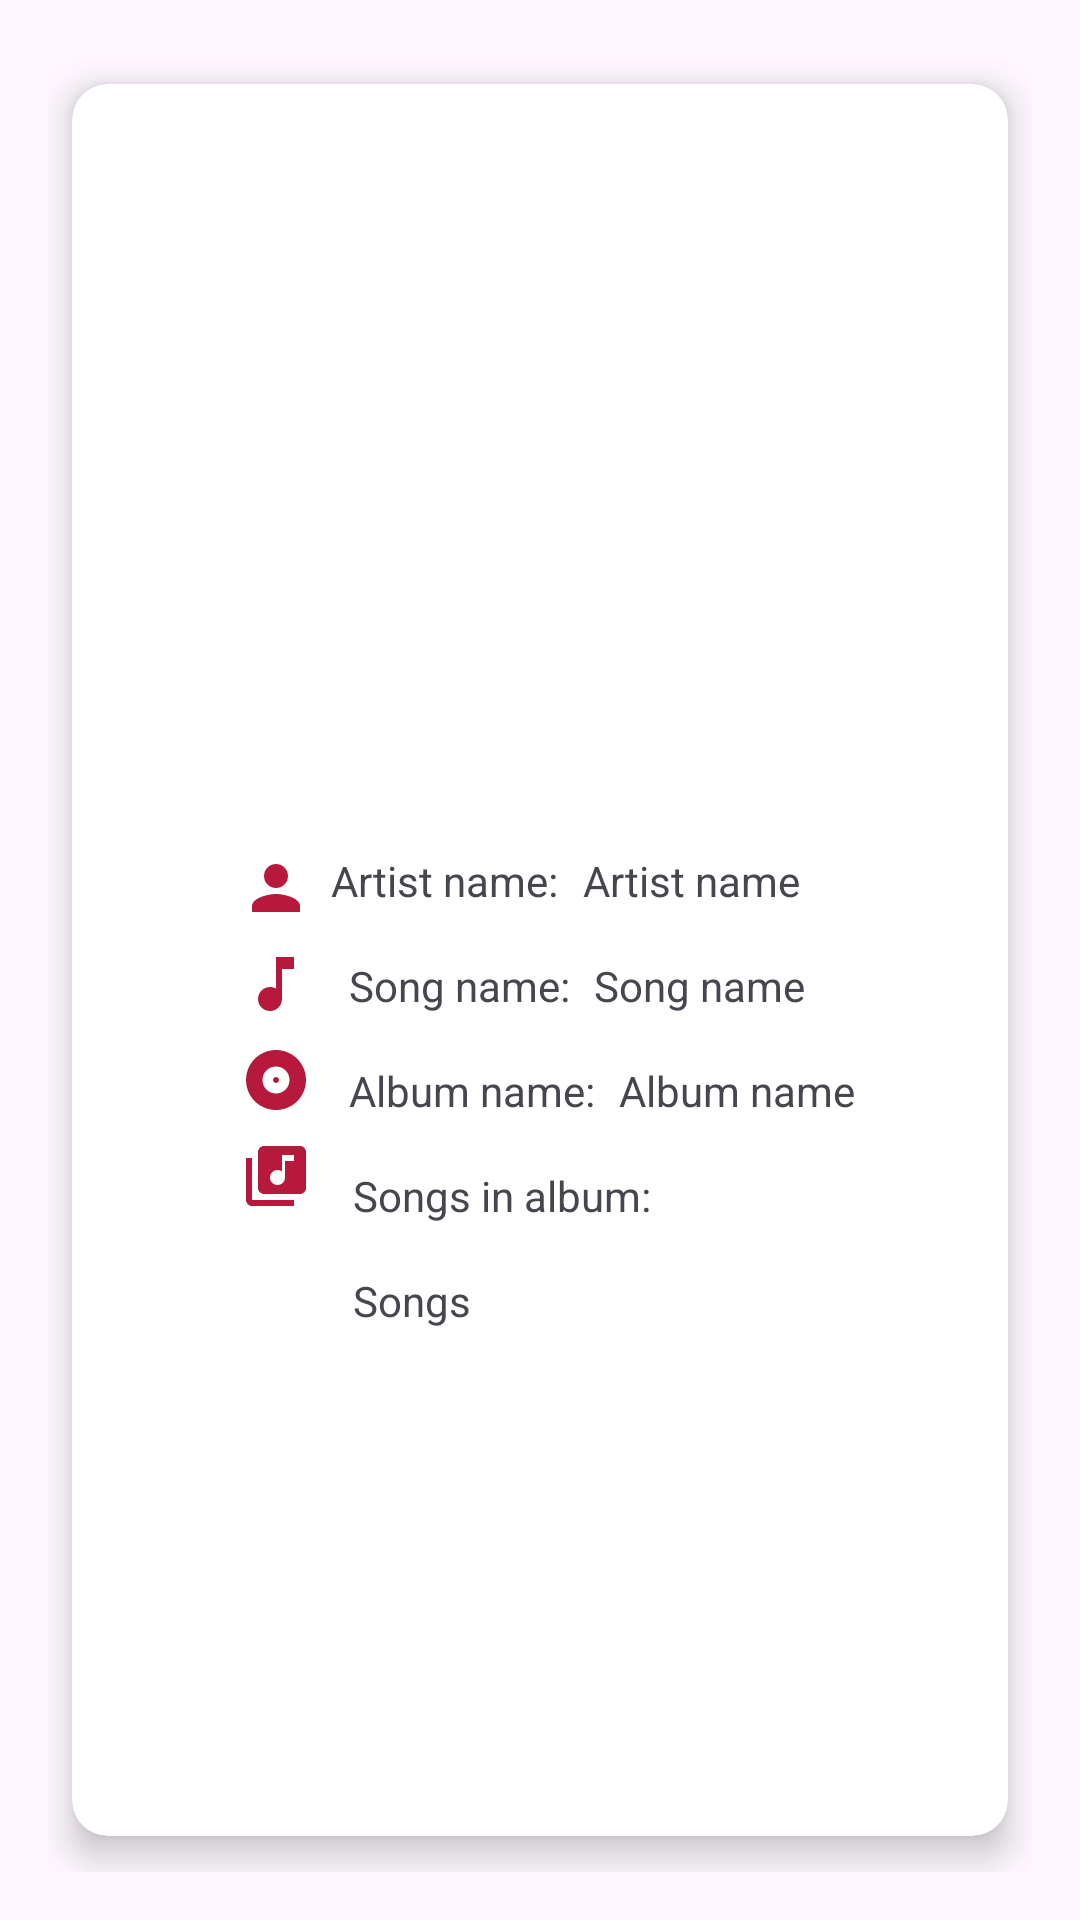

Icon click points for this 1080×1920 phone screenshot, format (x,y):
library music: (276,1176)
music note: (276,984)
person: (276,888)
